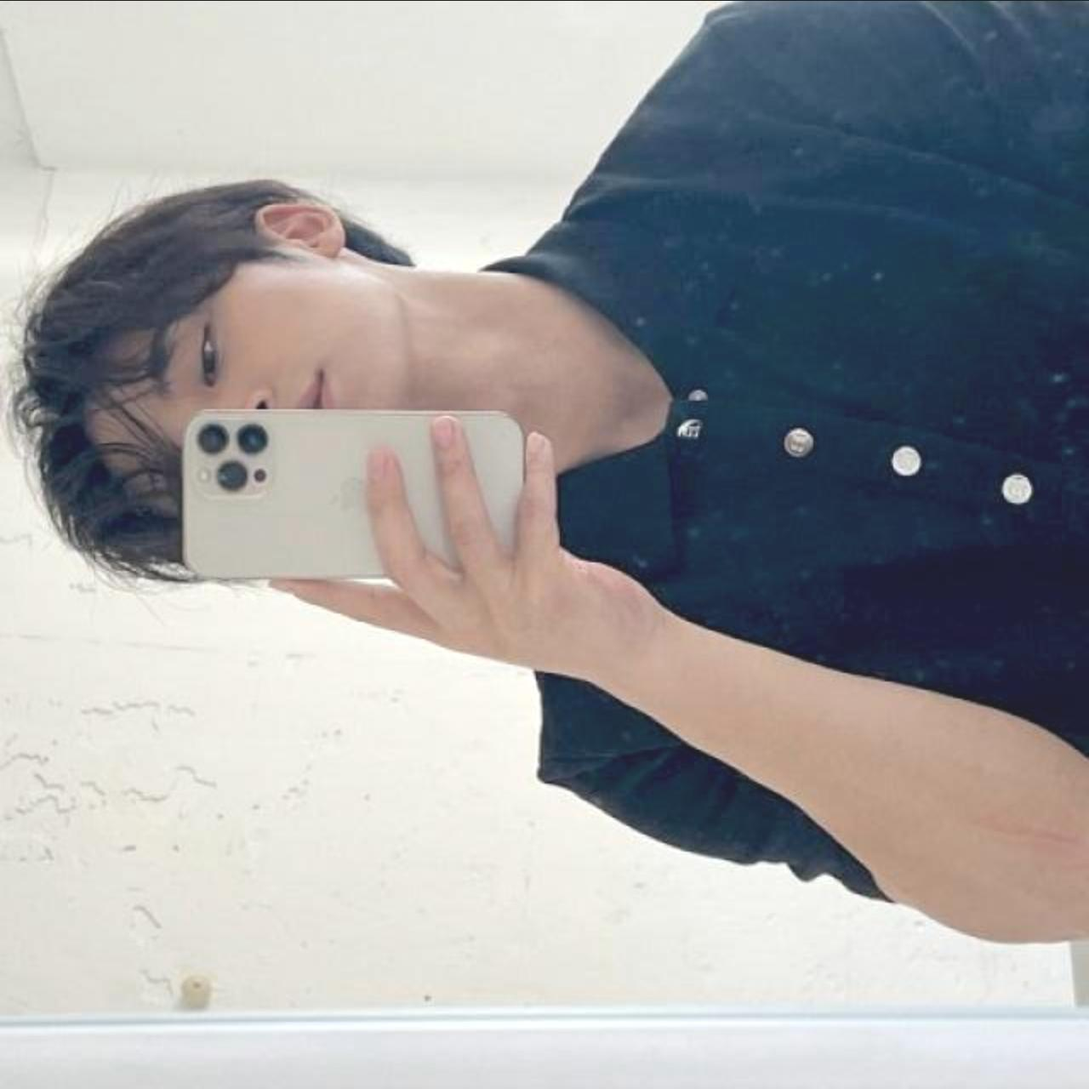phone: (182, 405, 524, 575)
